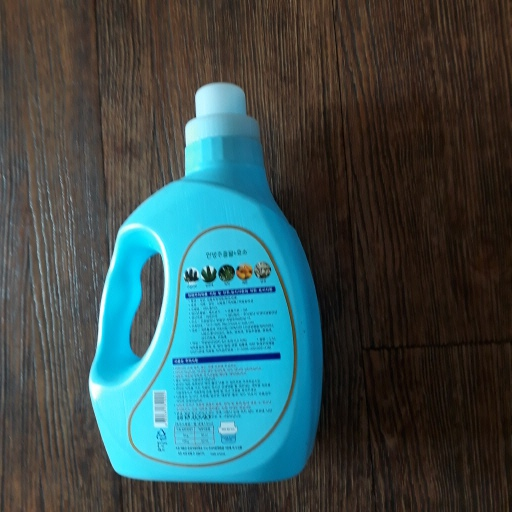Plastic_1: (85, 79, 324, 482)
